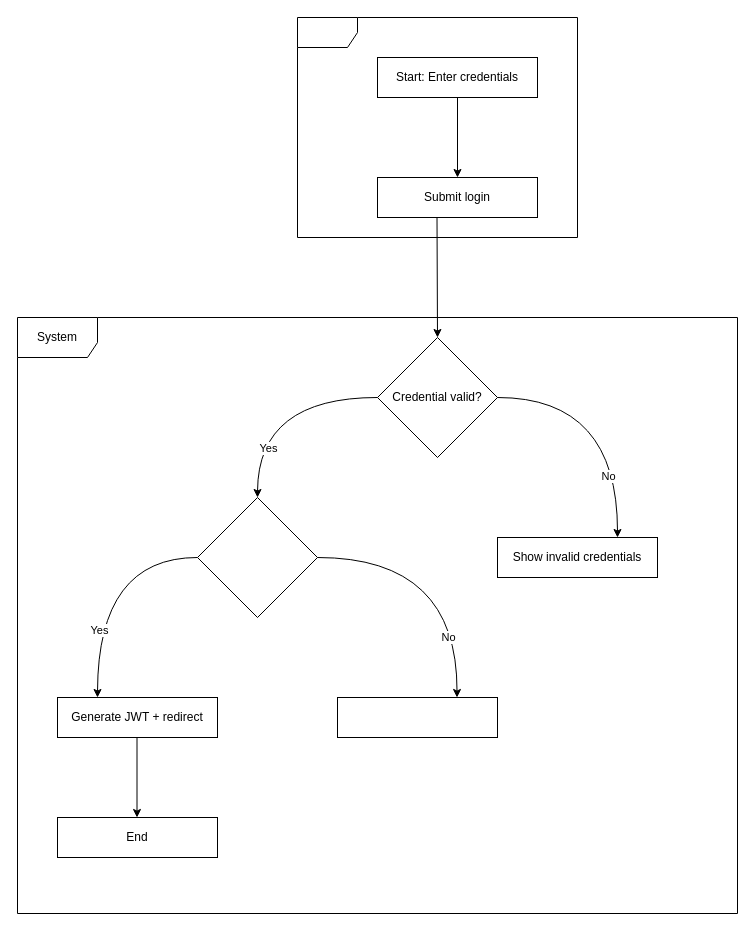
This 755x931 diagram has some shape labels left out. The centre of each missing label's shape, as x and y in pixels:
Account verified?: pixel 257 557
Show verify account: pixel 417 717
Student: pixel 437 127
